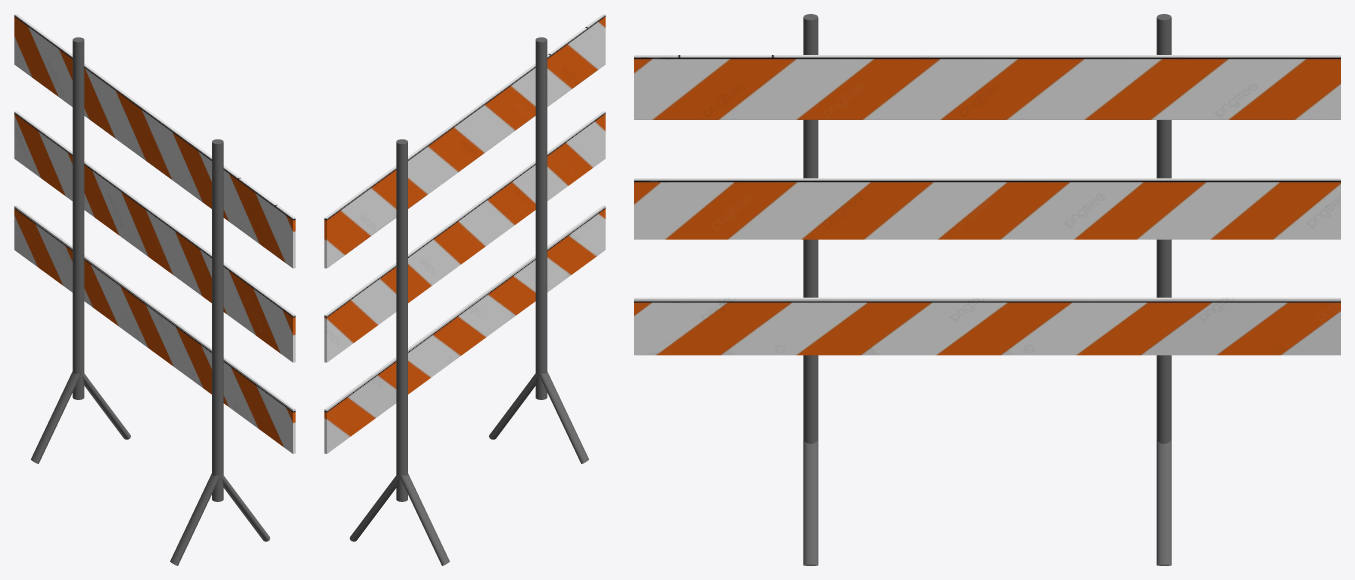
Rendered from barricada naranja.fbx.
3 views of the same model, side by side, from view 1: azimuth 30°, elevation 25°; view 2: azimuth 150°, elevation 25°; view 3: azimuth 270°, elevation 25° (orthographic). The views are drawn at different scales.
Visible parts, largest first — view 1: Plano; view 2: Plano; view 3: Plano.
Part boxes in pixels (x1,y1,x2,y2): Plano: (14,14,295,565); Plano: (324,14,605,565); Plano: (634,14,1340,565).
Size of the model in its own units: 81.82 by 331 by 404.
